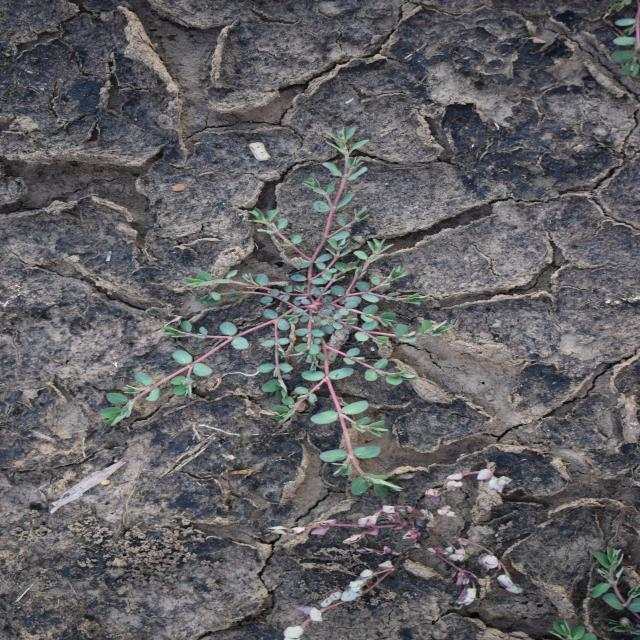SpottedSpurge: (96, 125, 455, 500), (542, 542, 638, 639)
